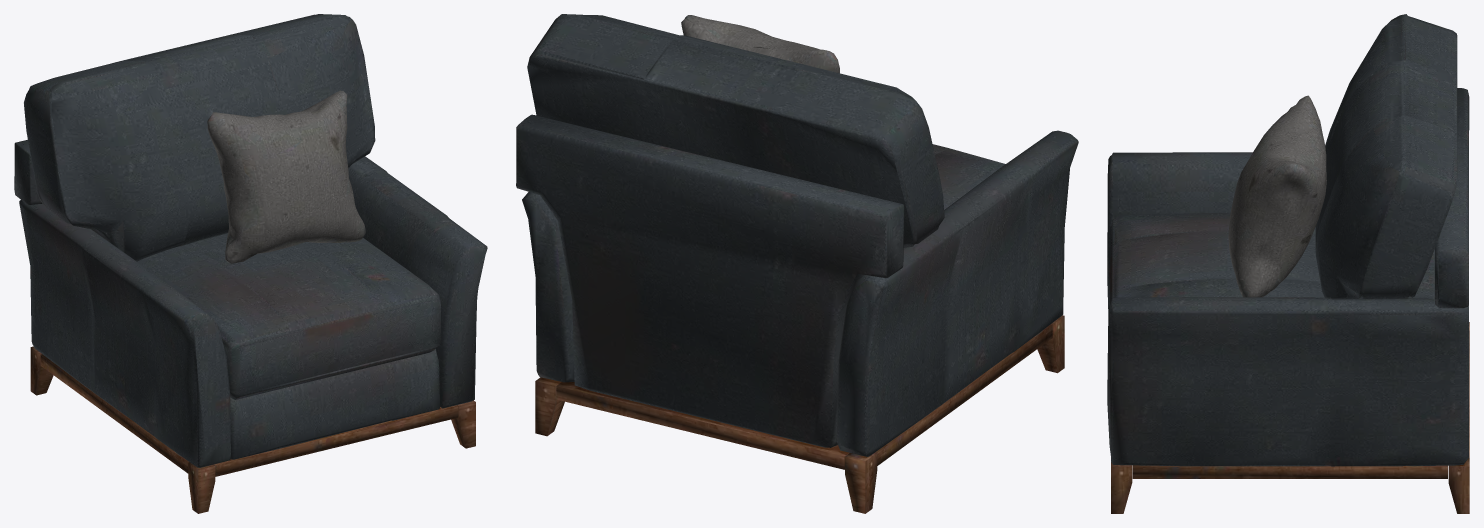
The model's file is armchair.glb.
3 views of the same model, side by side, from view 1: azimuth 30°, elevation 25°; view 2: azimuth 150°, elevation 25°; view 3: azimuth 270°, elevation 25° (orthographic). The views are drawn at different scales.
Visible parts, largest first — view 1: sidenie001_Material #2100944635_0; view 2: sidenie001_Material #2100944635_0; view 3: sidenie001_Material #2100944635_0.
Boxes of the visible parts, bbox=[...] form: sidenie001_Material #2100944635_0: bbox=[14, 14, 487, 513]; sidenie001_Material #2100944635_0: bbox=[516, 14, 1078, 513]; sidenie001_Material #2100944635_0: bbox=[1107, 14, 1469, 513].
Bounding box in the file's own units: 751 × 751 × 697.
Materials: 1 (1 with a texture image).
